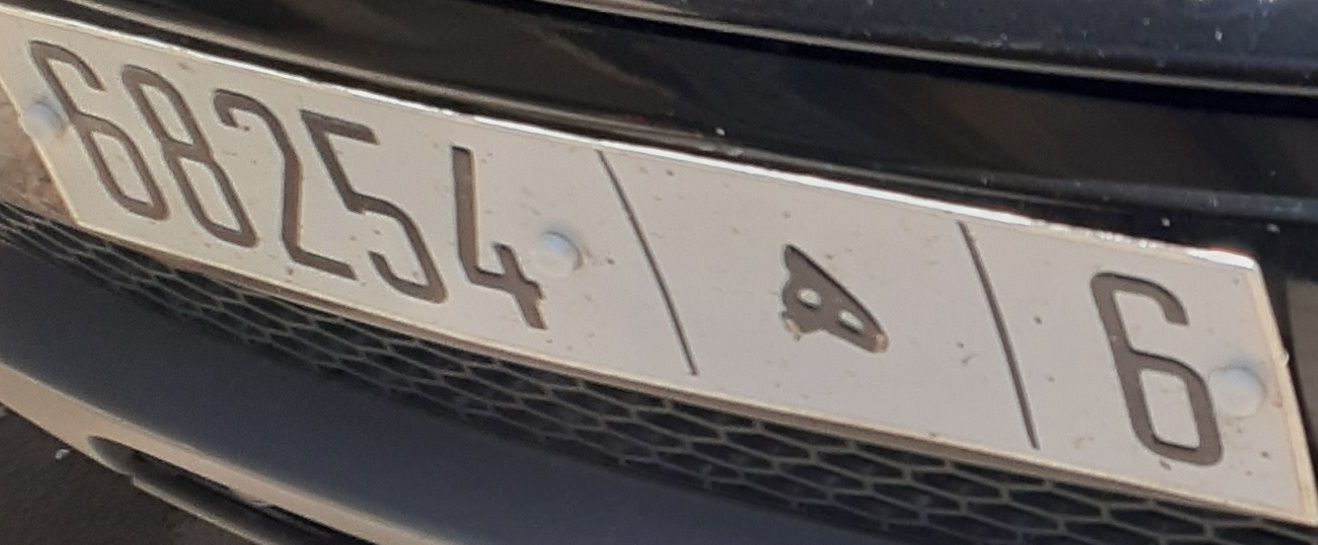2: (196, 80, 365, 296)
4: (424, 129, 564, 341)
5: (292, 99, 451, 315)
6: (1059, 251, 1254, 477), (23, 31, 173, 224)
8: (105, 61, 268, 255)
h: (721, 218, 906, 368)
